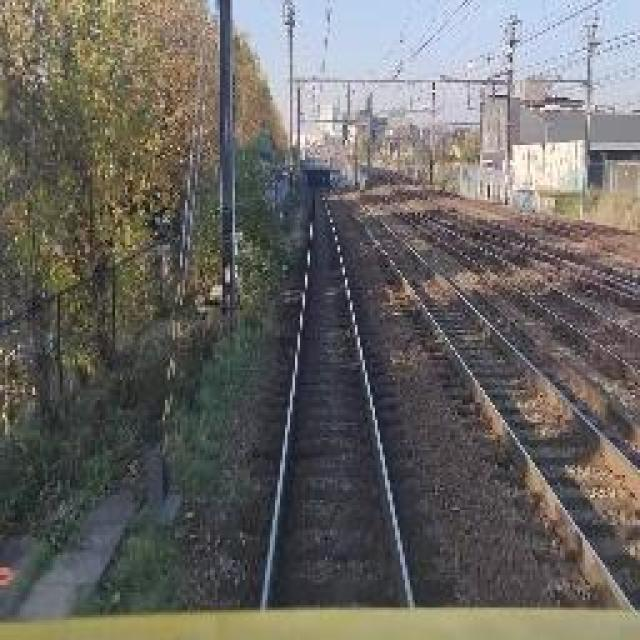rail: (239, 188, 446, 612)
